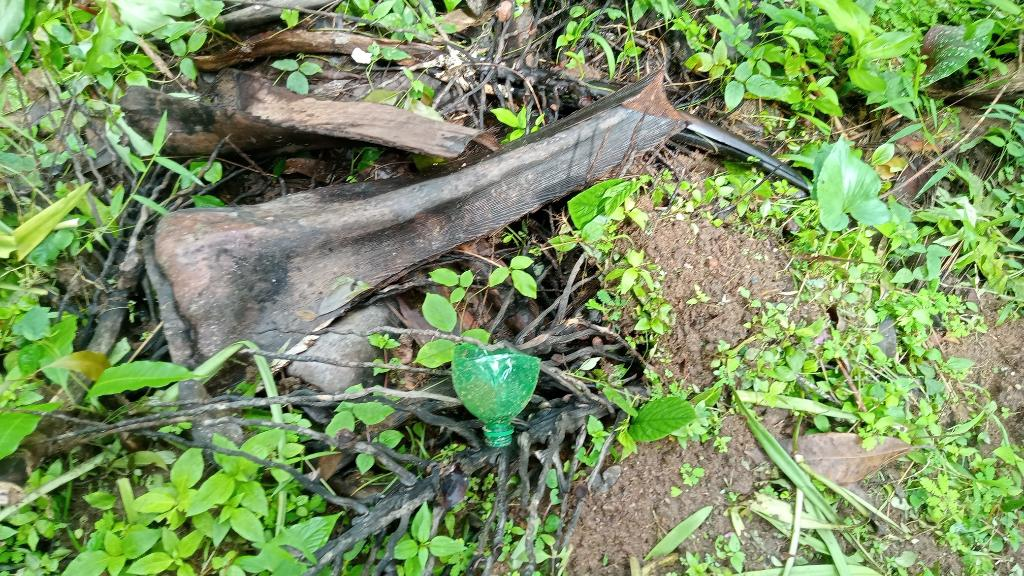garbage: (439, 335, 558, 448)
